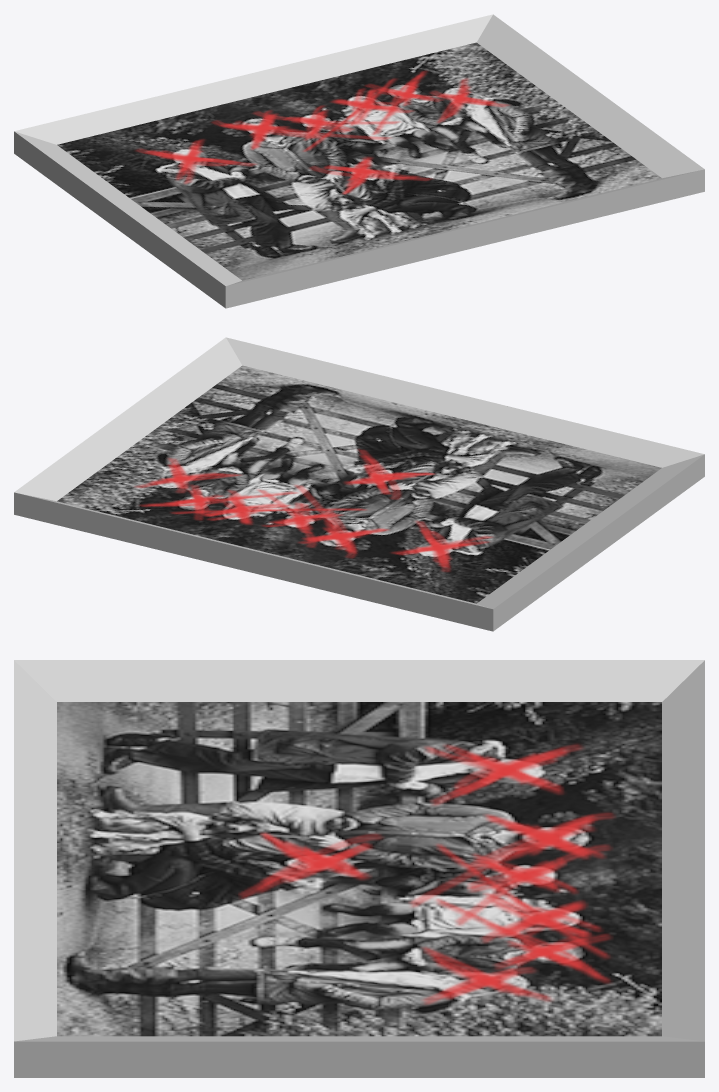
The model's file is FamilyPicture.fbx.
3 views of the same model, one above another, from view 1: azimuth 30°, elevation 25°; view 2: azimuth 150°, elevation 25°; view 3: azimuth 270°, elevation 25° (orthographic). The views are drawn at different scales.
Parts seen in each view (by area): view 1: familyphoto; view 2: familyphoto; view 3: familyphoto.
Part boxes in pixels (x1,y1,x2,y2): familyphoto: [14, 14, 704, 308]; familyphoto: [14, 337, 704, 631]; familyphoto: [14, 660, 704, 1077].
Bounding box in the file's own units: 86.97 × 3.87 × 66.59.
